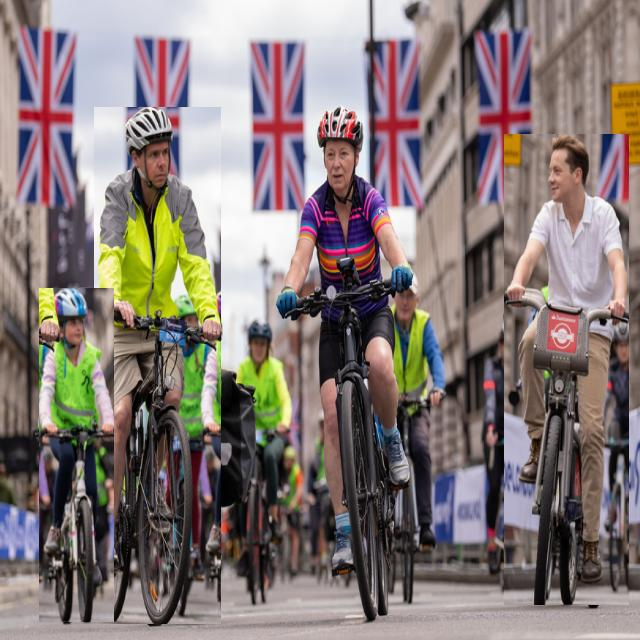bicycle: (276, 106, 412, 620), (94, 108, 221, 624), (504, 134, 629, 605), (39, 289, 114, 622)
